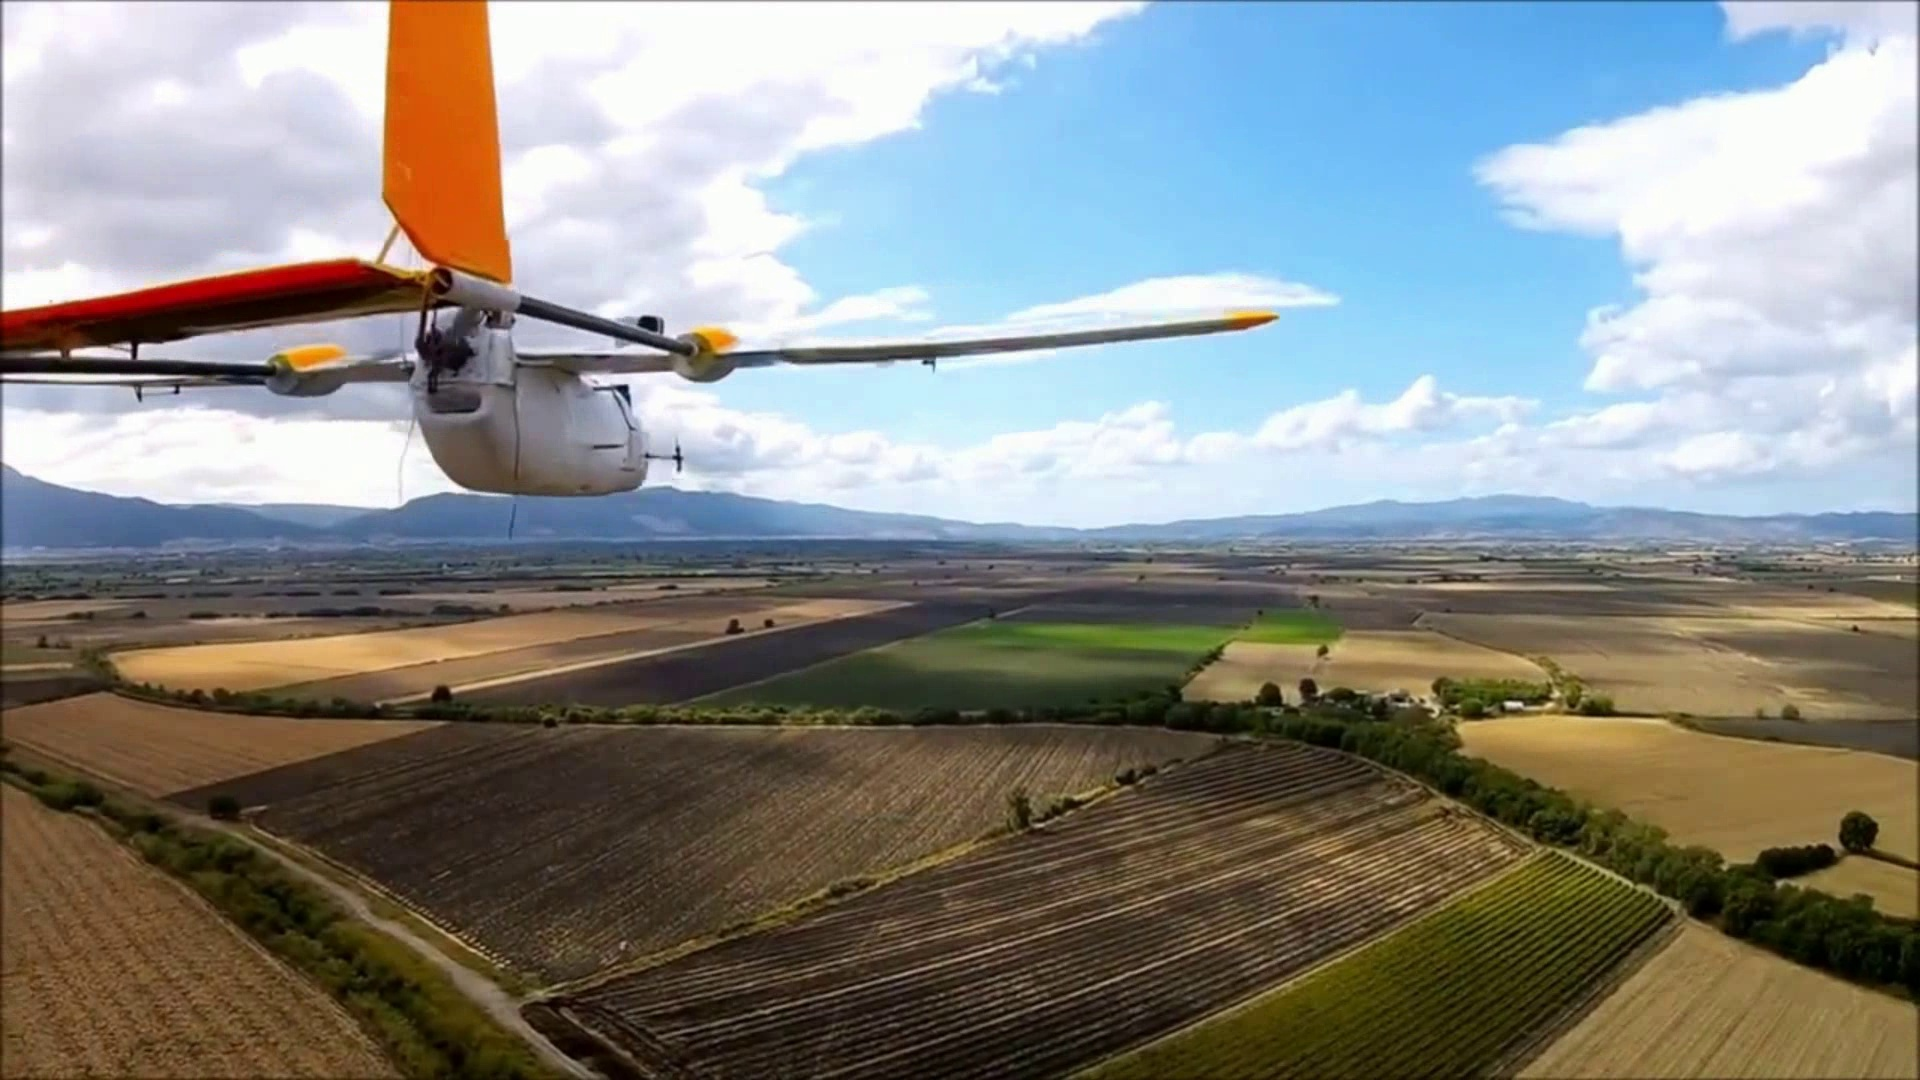airplane: (3, 5, 1337, 502)
